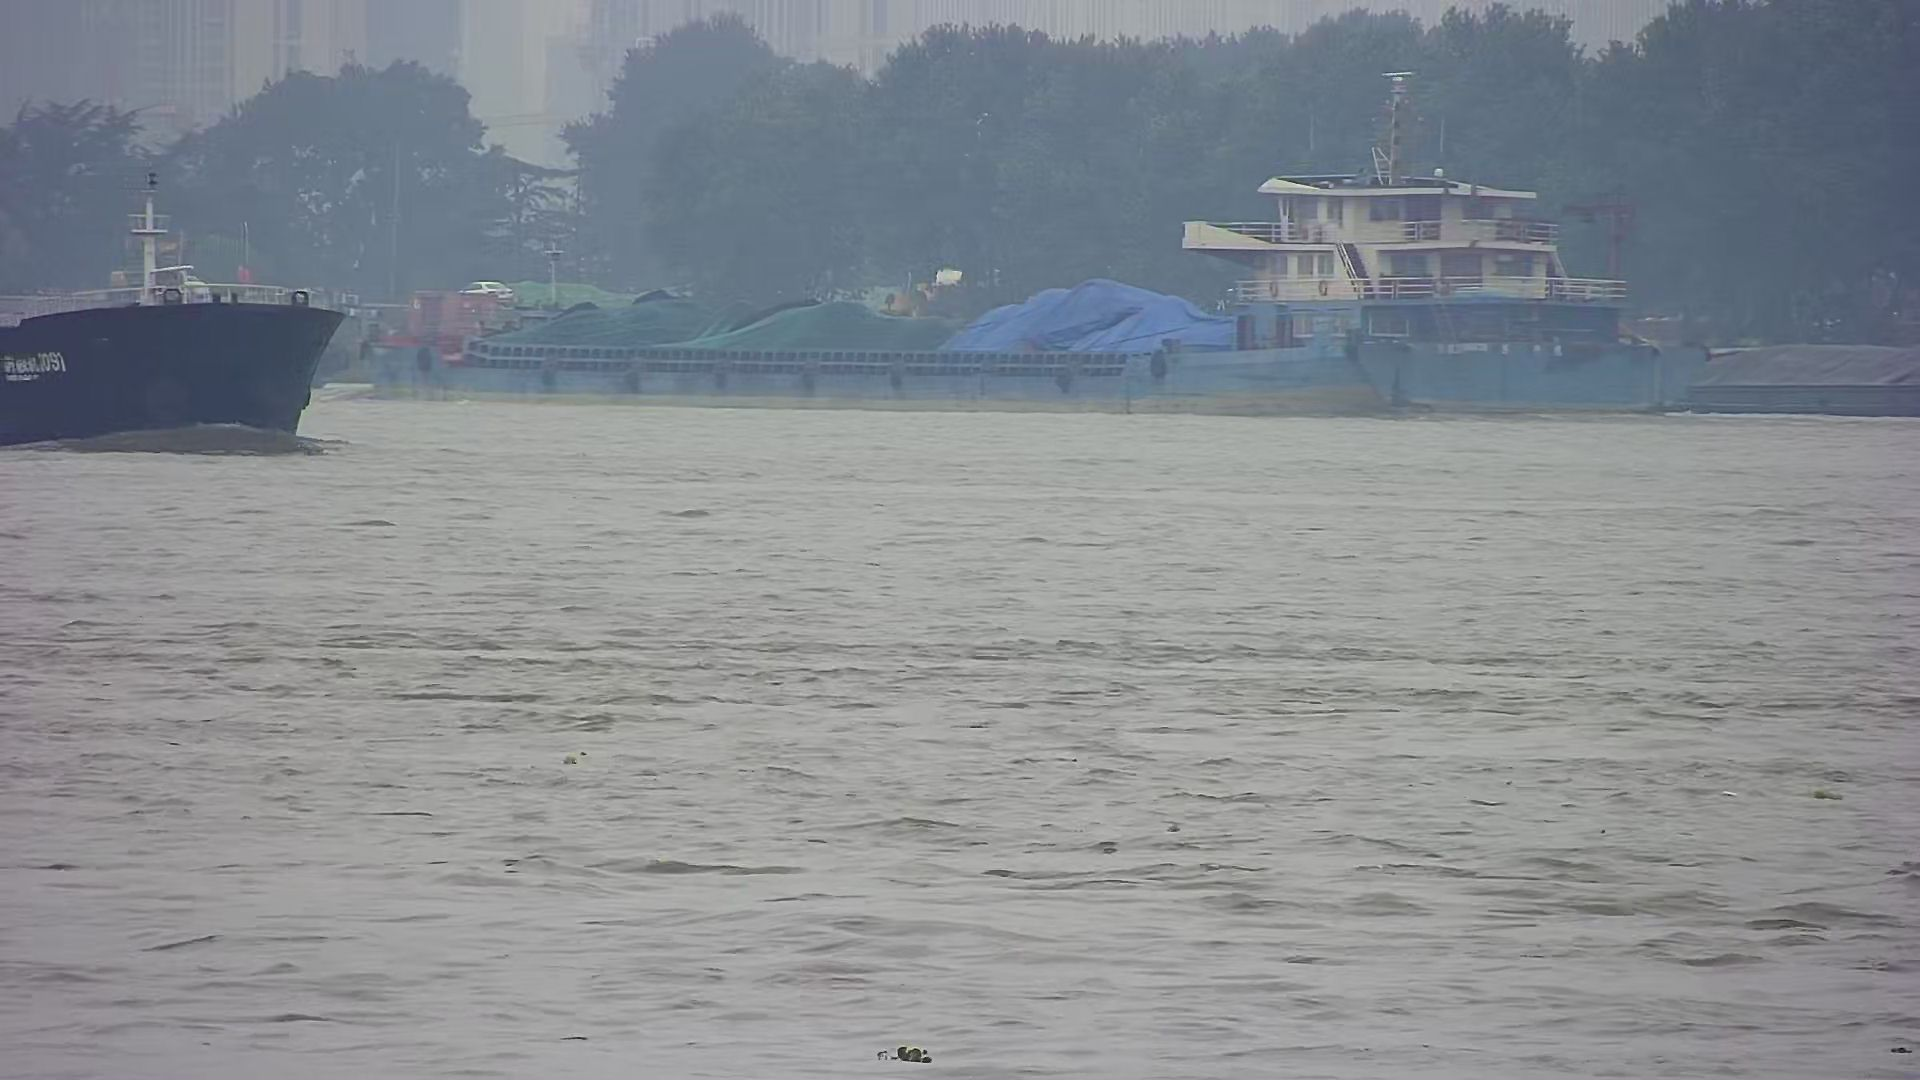boat: (1, 164, 363, 465)
ship: (342, 49, 1708, 436)
